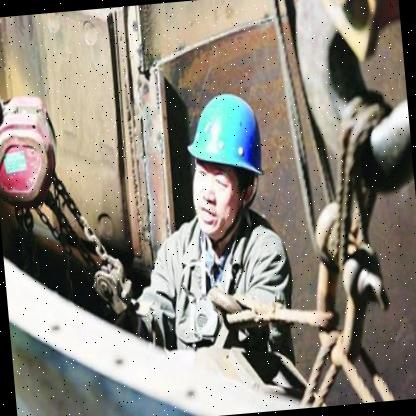capacete: (181, 90, 270, 184)
